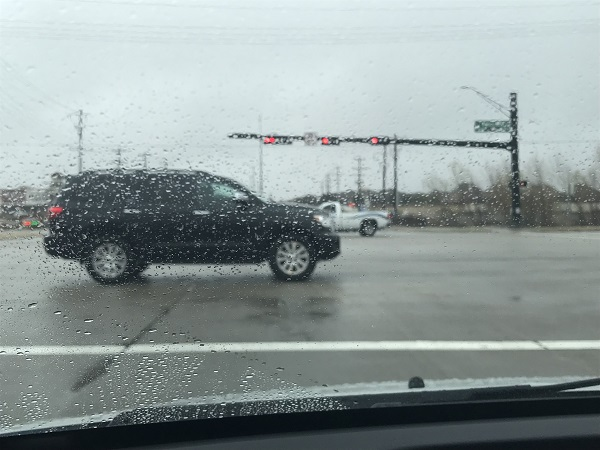car: (48, 172, 340, 282)
truck: (311, 200, 391, 234)
